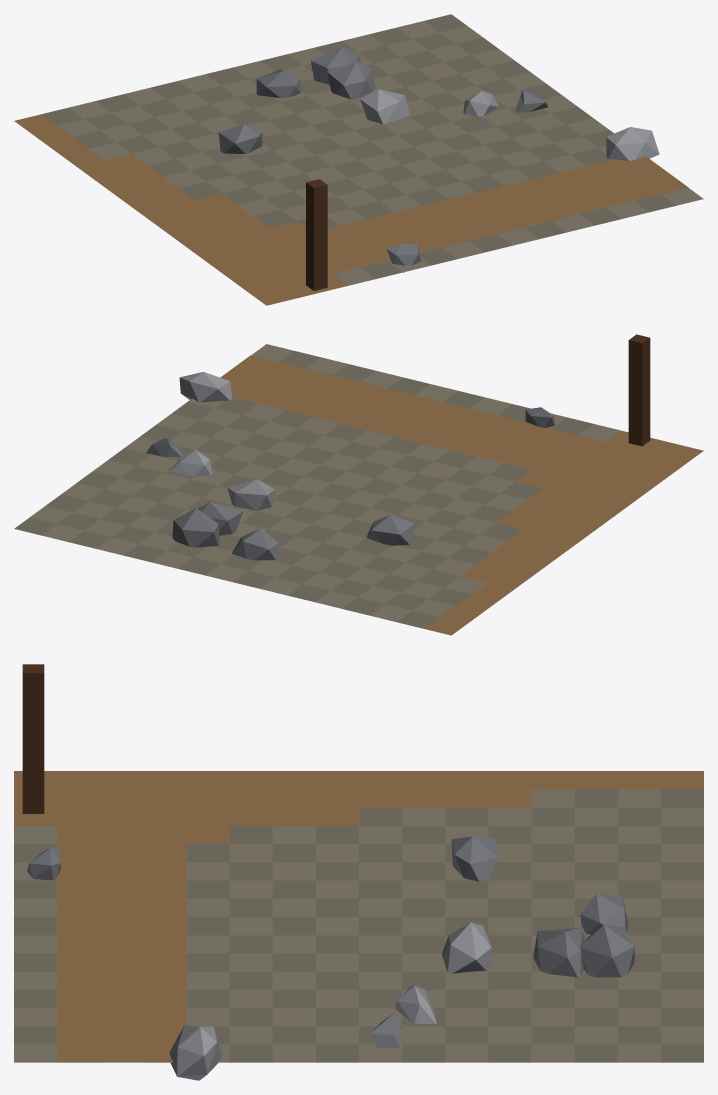
Rendered from chunk_6_17.glb.
3 views of the same model, one above another, from view 1: azimuth 30°, elevation 25°; view 2: azimuth 150°, elevation 25°; view 3: azimuth 270°, elevation 25° (orthographic). The views are drawn at different scales.
Visible parts, largest first — view 1: chunk_6_17; view 2: chunk_6_17; view 3: chunk_6_17.
Part boxes in pixels (left/top/right/bottom): chunk_6_17: left=14, top=14, right=703, bottom=305; chunk_6_17: left=14, top=334, right=703, bottom=635; chunk_6_17: left=14, top=664, right=703, bottom=1080.
Size of the model in its own units: 16.64 by 4.28 by 16.
